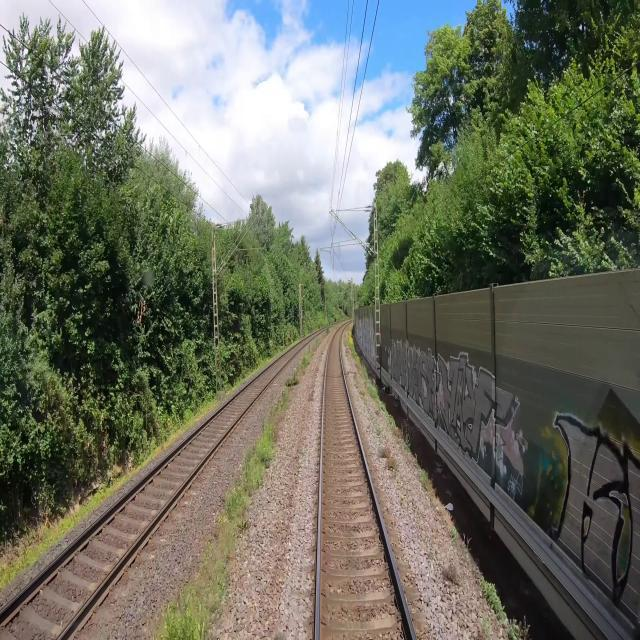Plant: (155, 337, 320, 639), (442, 561, 458, 583), (380, 445, 392, 459), (385, 457, 396, 469), (483, 617, 490, 632), (359, 387, 366, 398), (376, 426, 381, 435), (343, 335, 347, 346)
